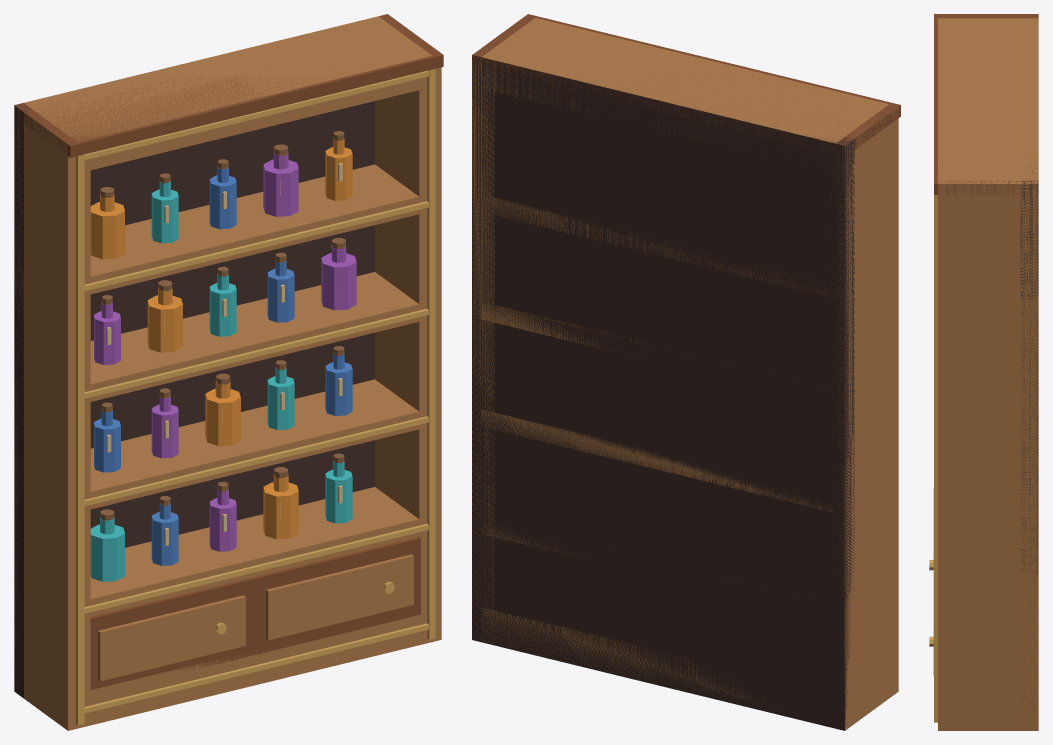
The model's file is potion-cabinet.glb.
The picture shows the model from 3 angles, left to right: view 1: azimuth 30°, elevation 25°; view 2: azimuth 150°, elevation 25°; view 3: azimuth 270°, elevation 25°; orthographic projection. The views are drawn at different scales.
Visible parts, largest first — view 1: Back.001, Side post.002, Shelf.011, Side post.003, Shelf.008, Shelf.007, Shelf.010, Shelf.009, Crown.001, Lower doors.001, Shelf.006, Door panel.002 (+29 smaller); view 2: Back.001, Side post.002, Shelf.011, Side post.003, Crown.001, Shelf.008, Shelf.006, Shelf.010, Shelf.009; view 3: Side post.003, Shelf.011, Back.001, Post edging.003, Crown.001.
Part boxes in pixels (x1=…): Back.001: x1=14, y1=87, x2=374, y2=698; Side post.002: x1=14, y1=108, x2=90, y2=730; Shelf.011: x1=24, y1=16, x2=431, y2=171; Side post.003: x1=375, y1=67, x2=441, y2=641; Shelf.008: x1=84, y1=379, x2=427, y2=510; Shelf.007: x1=84, y1=487, x2=427, y2=618; Shelf.010: x1=84, y1=164, x2=427, y2=294; Shelf.009: x1=84, y1=272, x2=427, y2=402; Crown.001: x1=14, y1=14, x2=443, y2=157; Lower doors.001: x1=90, y1=537, x2=420, y2=689; Shelf.006: x1=77, y1=609, x2=432, y2=728; Door panel.002: x1=98, y1=595, x2=245, y2=681; Back.001: x1=472, y1=55, x2=854, y2=730; Side post.002: x1=831, y1=107, x2=898, y2=730; Shelf.011: x1=481, y1=18, x2=888, y2=165; Side post.003: x1=472, y1=48, x2=494, y2=644; Crown.001: x1=472, y1=14, x2=900, y2=155; Shelf.008: x1=481, y1=409, x2=833, y2=512; Shelf.006: x1=481, y1=607, x2=789, y2=712; Shelf.010: x1=482, y1=195, x2=834, y2=297; Shelf.009: x1=481, y1=302, x2=833, y2=392; Side post.003: x1=938, y1=174, x2=1038, y2=730; Shelf.011: x1=938, y1=18, x2=1038, y2=179; Back.001: x1=1020, y1=165, x2=1038, y2=710; Post edging.003: x1=934, y1=195, x2=937, y2=722; Crown.001: x1=934, y1=14, x2=1038, y2=194.
Size of the model in its own units: 2 by 3 by 0.542.
